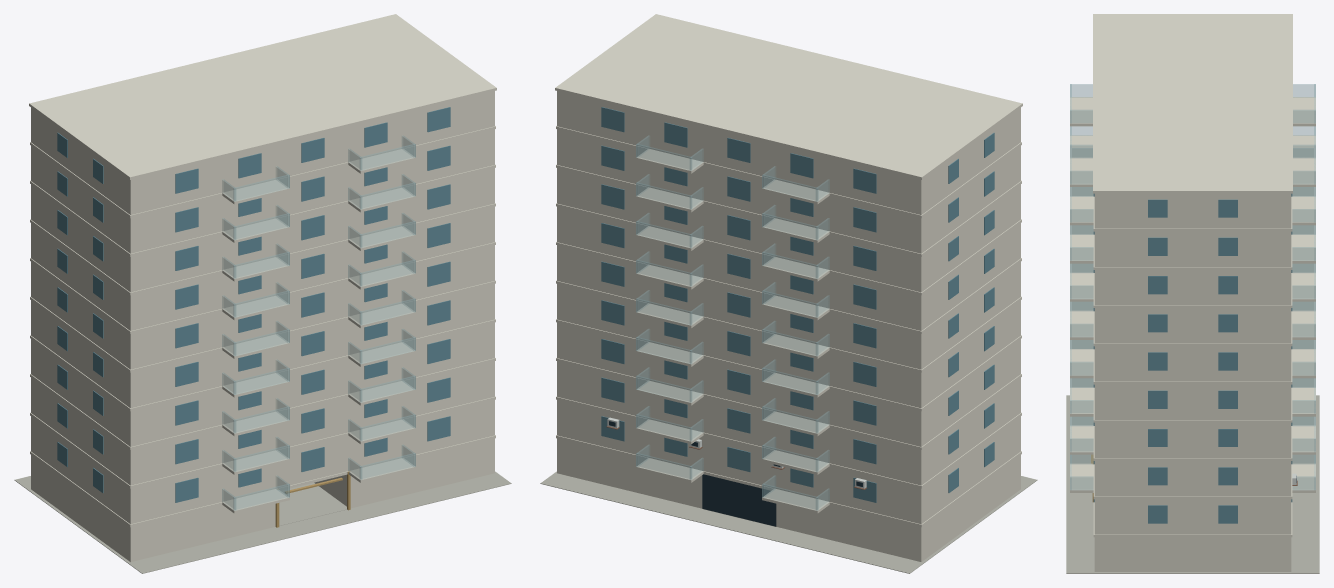
The model's file is hk-mid-02.glb.
3 renders of one model, left to right at view 1: azimuth 30°, elevation 25°; view 2: azimuth 150°, elevation 25°; view 3: azimuth 270°, elevation 25°, orthographic.
Parts seen in each view (by area): view 1: HK-MID-02-ivory, HK-MID-02-glazing, HK-MID-02-glass, HK-MID-02-stone; view 2: HK-MID-02-ivory, HK-MID-02-glazing, HK-MID-02-glass, HK-MID-02-stone, HK-MID-02-dark; view 3: HK-MID-02-ivory, HK-MID-02-glass, HK-MID-02-glazing, HK-MID-02-stone.
Part boxes in pixels (box(x1,y1,x2,y2)): HK-MID-02-ivory: box(29, 14, 496, 561); HK-MID-02-glazing: box(57, 107, 450, 502); HK-MID-02-glass: box(222, 135, 415, 510); HK-MID-02-stone: box(14, 471, 511, 573); HK-MID-02-ivory: box(555, 14, 1022, 561); HK-MID-02-glazing: box(601, 107, 994, 502); HK-MID-02-glass: box(636, 135, 829, 510); HK-MID-02-stone: box(540, 471, 1037, 573); HK-MID-02-dark: box(609, 421, 862, 526); HK-MID-02-ivory: box(1070, 14, 1315, 571); HK-MID-02-glass: box(1070, 84, 1315, 490); HK-MID-02-glazing: box(1093, 193, 1292, 523); HK-MID-02-stone: box(1066, 395, 1319, 573).
Size of the model in its own units: 30 by 30 by 18.
